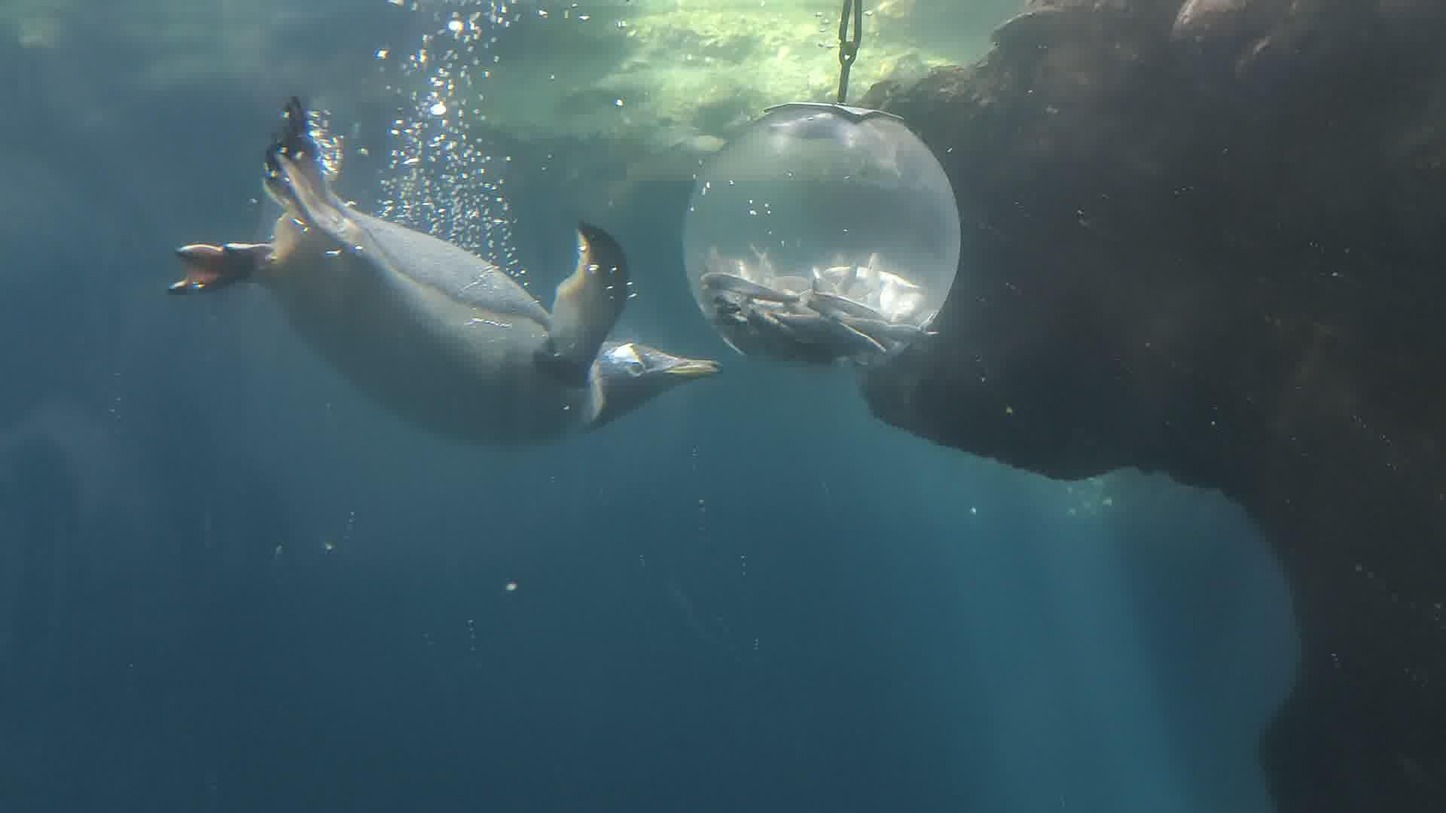apple: (167, 94, 723, 448)
